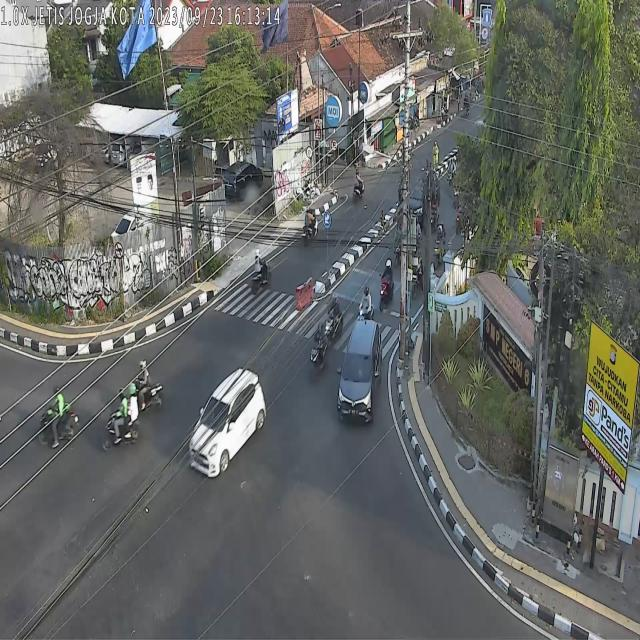car: (190, 367, 266, 478), (336, 319, 383, 424), (408, 172, 440, 224)
motorcycle: (36, 387, 82, 451), (100, 382, 140, 455), (130, 357, 164, 416), (307, 318, 328, 378), (409, 232, 426, 302), (377, 258, 397, 311), (250, 249, 272, 295), (324, 294, 343, 341), (302, 205, 320, 248), (358, 283, 374, 323), (434, 223, 446, 268), (352, 168, 365, 202), (393, 222, 403, 266), (430, 191, 439, 232), (447, 156, 456, 190), (452, 178, 460, 213)
